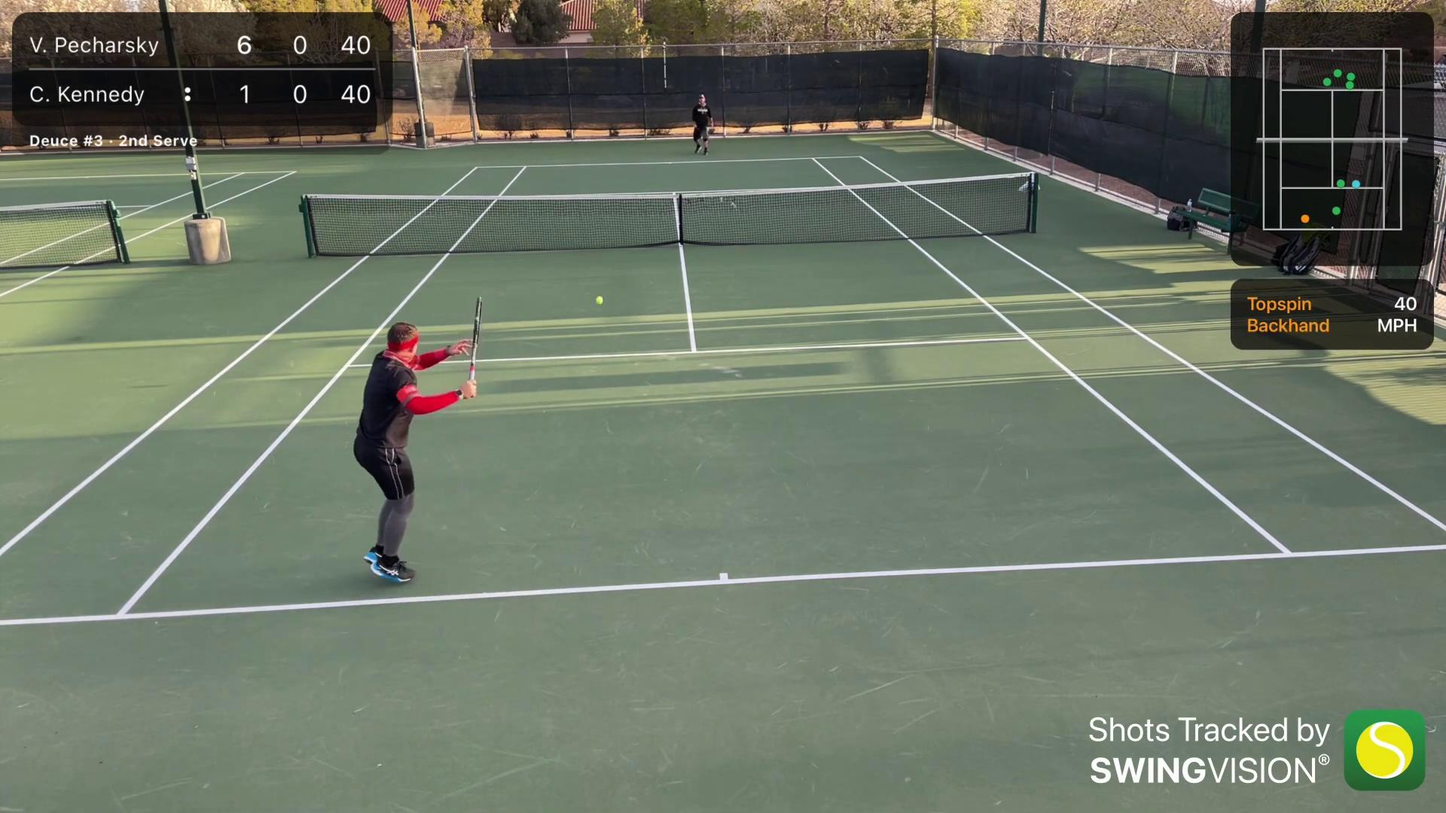ball: (595, 295, 604, 305)
